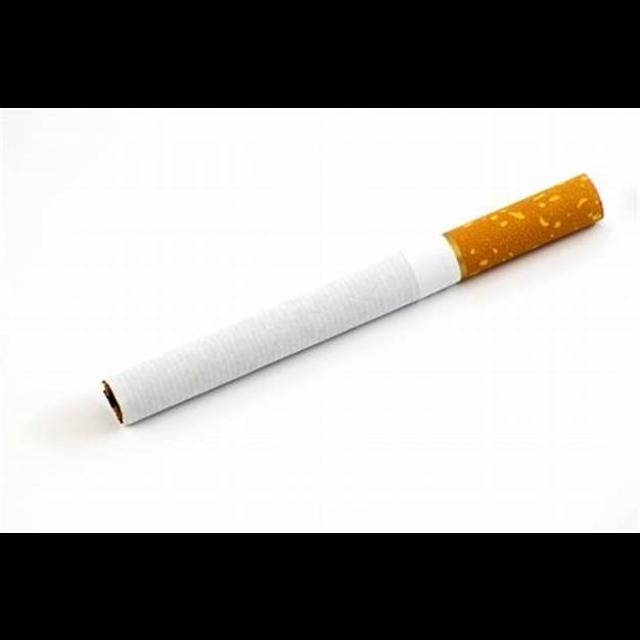rokok: (91, 170, 608, 440)
